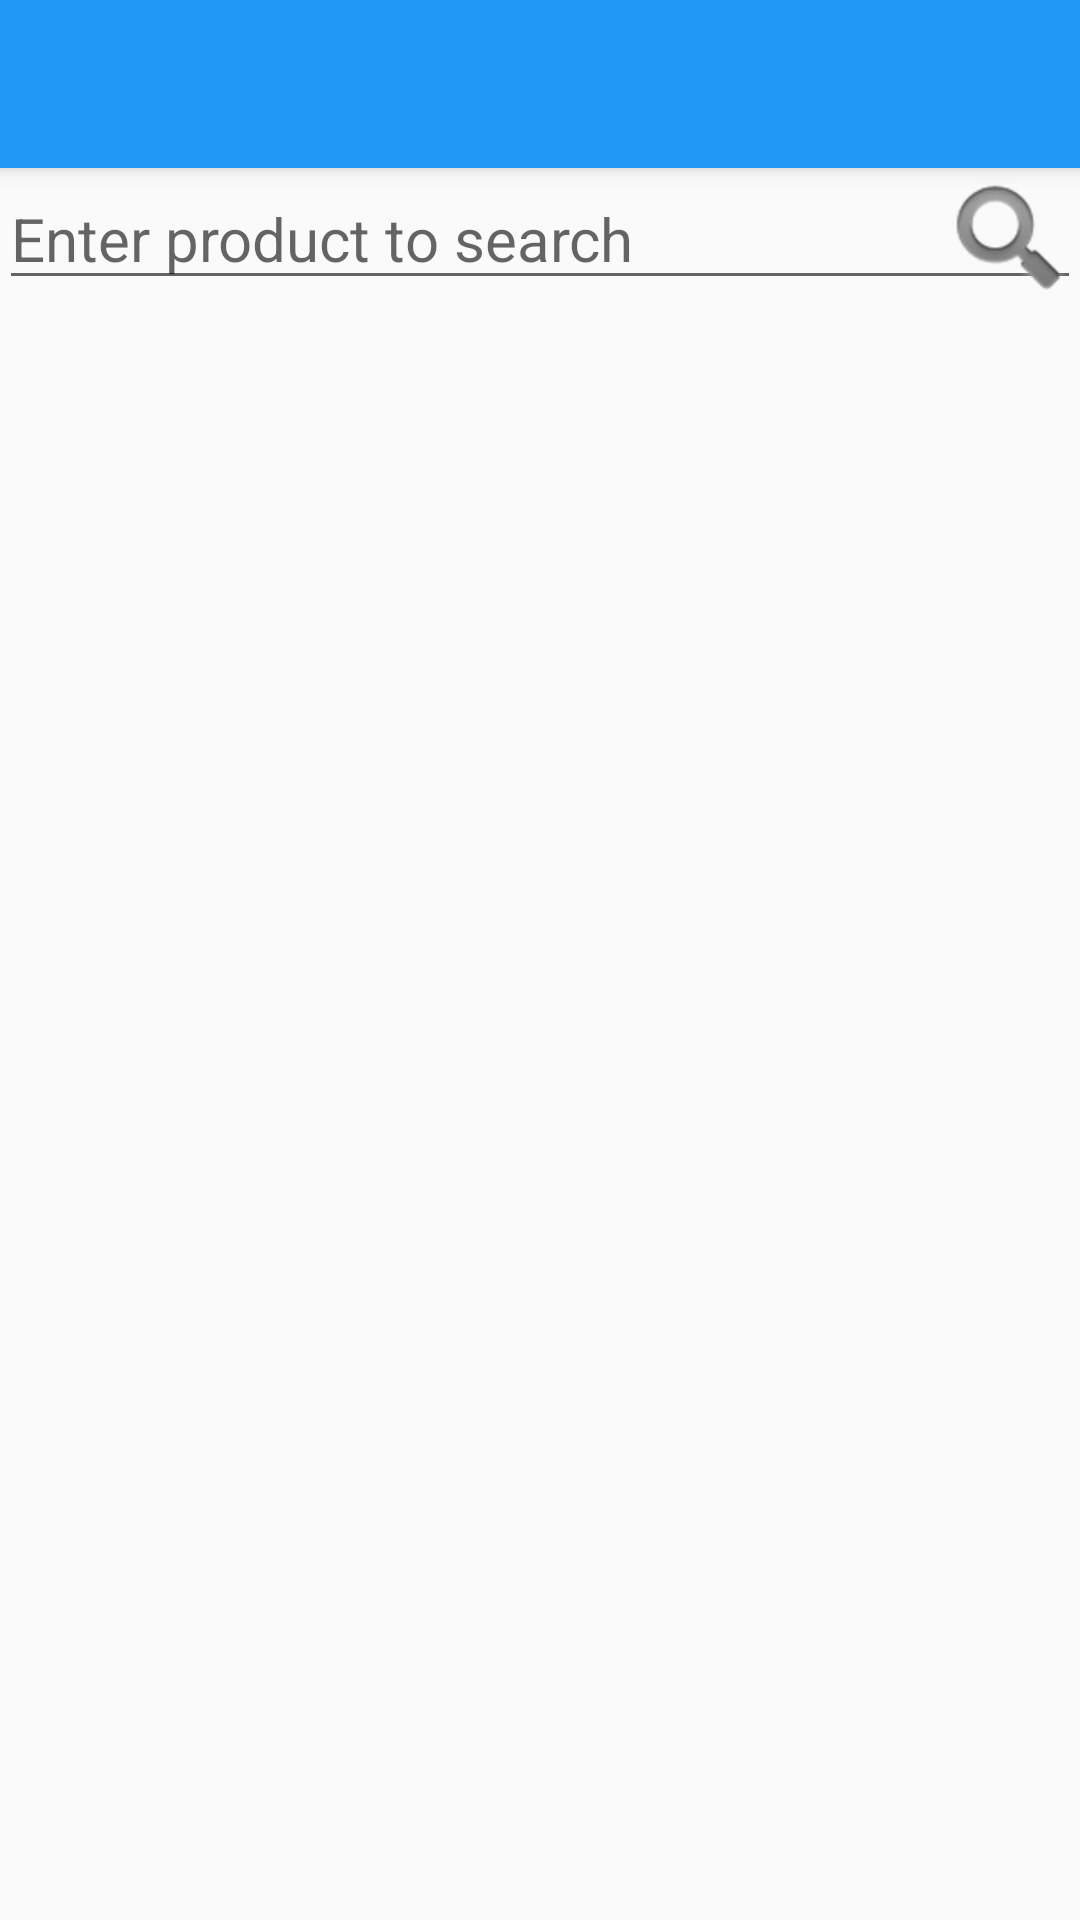

Locate icon controls on the screen. Image size 1080×1920, boxes as (x1, y1, x2, y2).
search category: (937, 168, 1078, 289)
